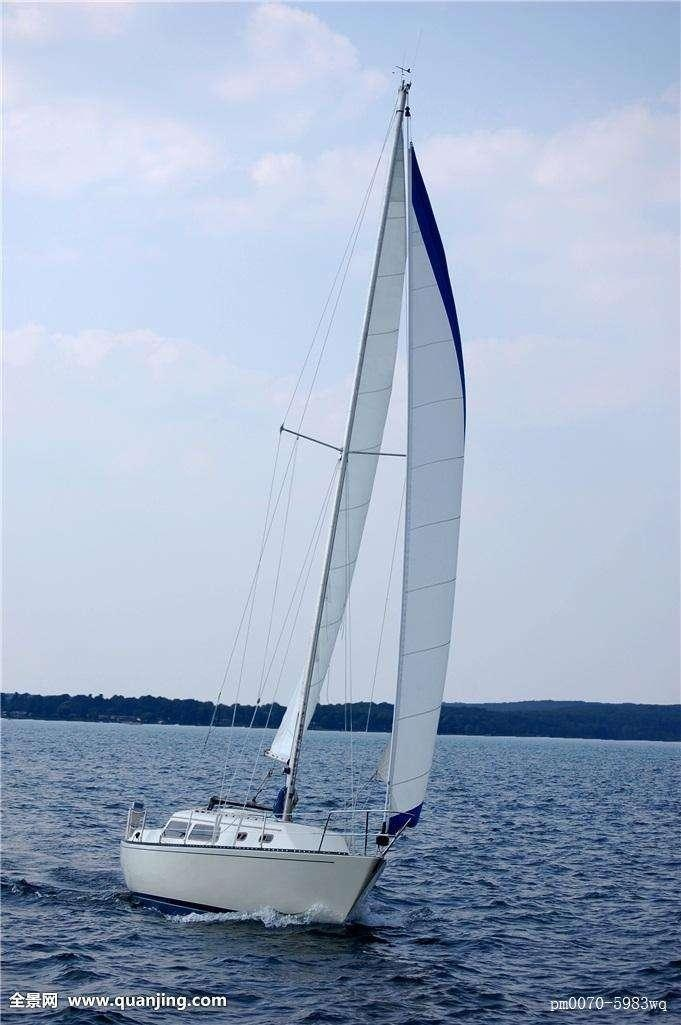fanchuan: (112, 61, 512, 924)
